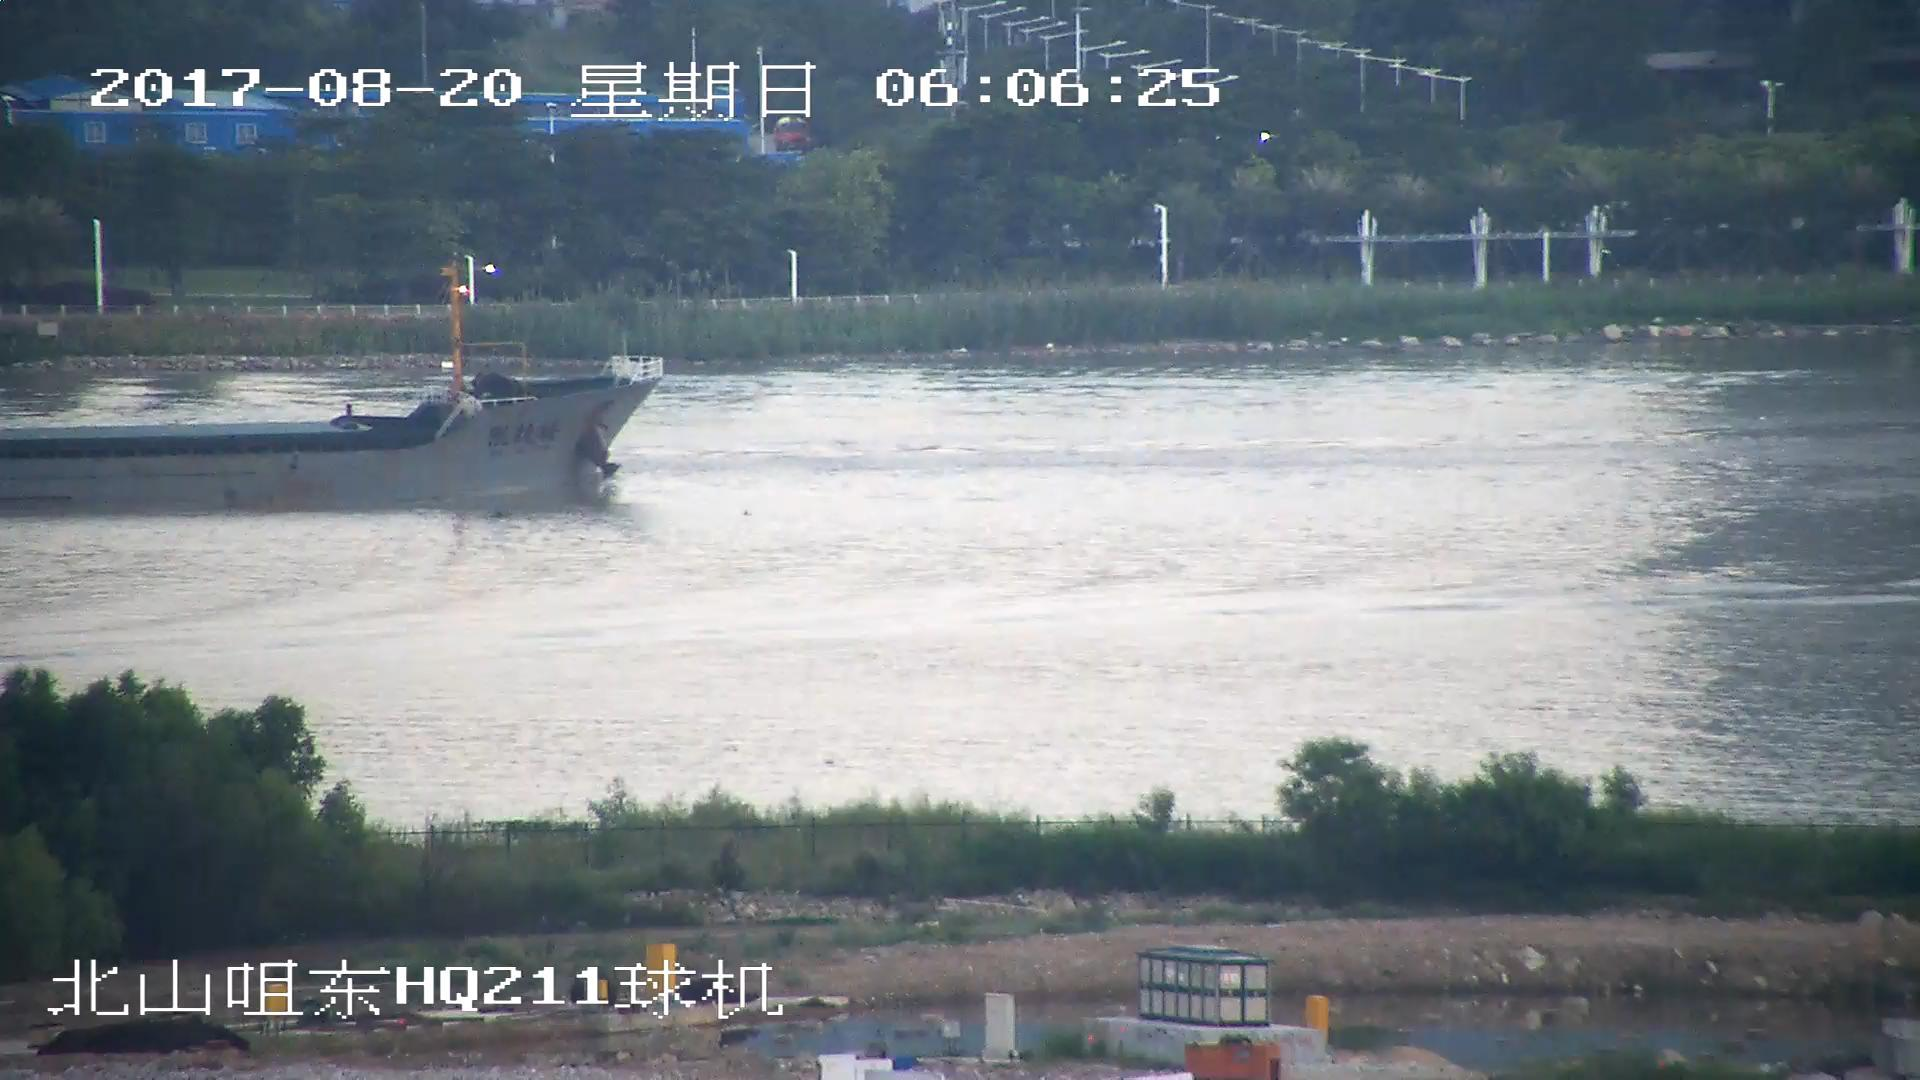Ship: (3, 316, 654, 501)
